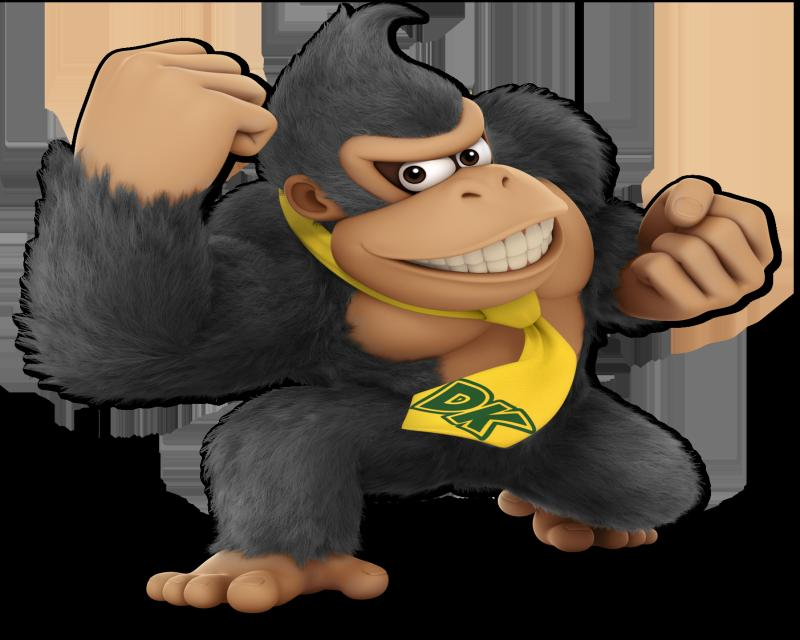dk: (243, 0, 616, 328)
